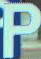Parking: (3, 0, 40, 57)
